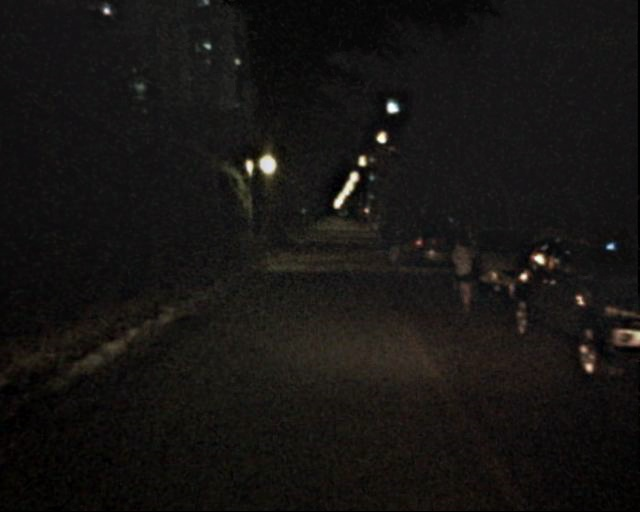person: (442, 231, 477, 317), (384, 220, 403, 267), (376, 225, 390, 260)
